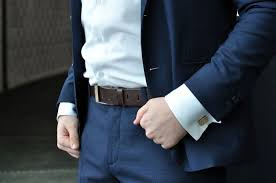F_belt: (75, 78, 179, 111)
